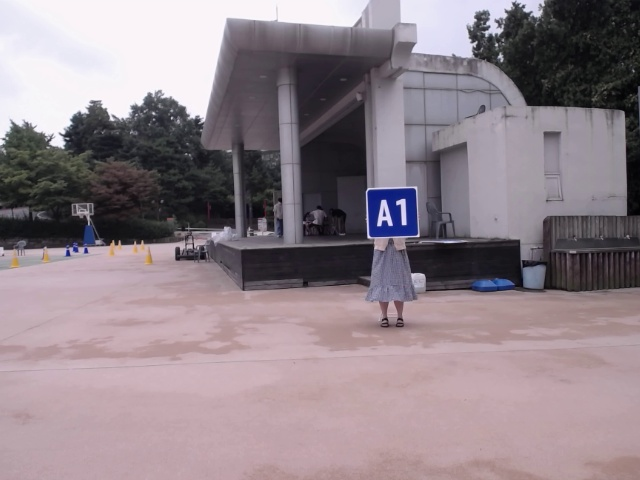delivery_a1: (366, 187, 419, 238)
